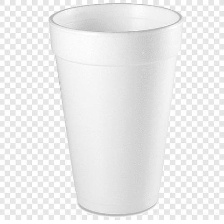glass: (44, 1, 186, 220)
